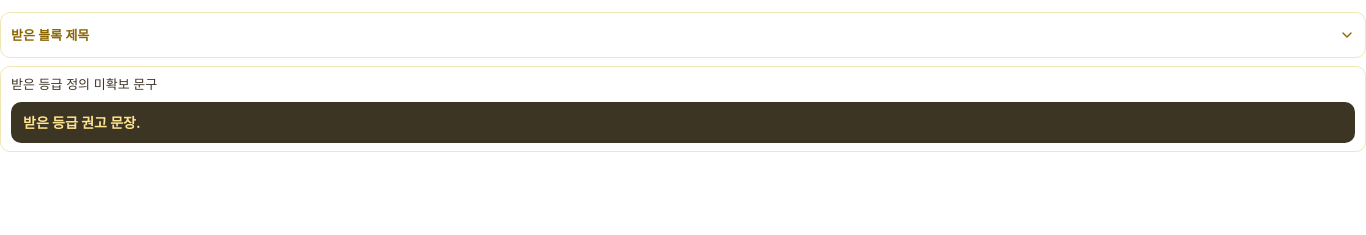
GradeDefBlock › 정의 원문 블록은 기본으로 접혀 있고 누르면 원문이 받은 그대로 보인다. 미확보·권고는 그와 상관없이 보인다
The width and height of the screenshot is (1366, 235).
Expected: the text "받은 고시 원문 인용" is not shown
Expected: the text "받은 등급 정의 미확보 문구" is shown once, [11,76,157,92]
Click the button "받은 블록 제목": (50, 34) [11,13,1355,57]
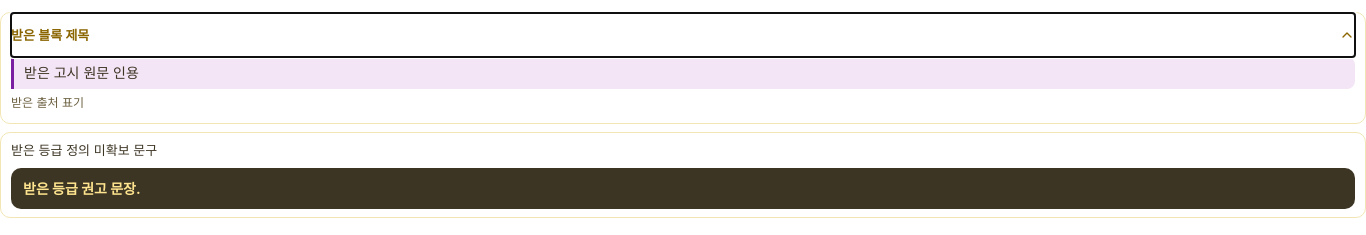
Now the text "받은 고시 원문 인용" is shown, box [11,57,1355,89]
Now the text "받은 출처 표기" is shown, box [11,95,84,110]
